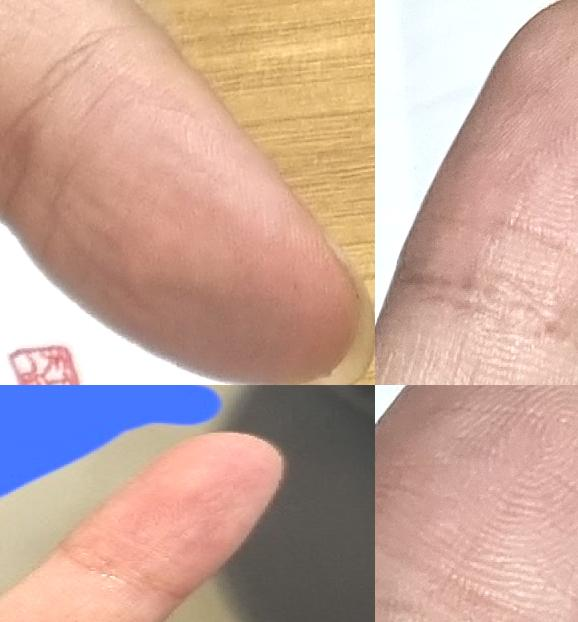Fingerprints: (2, 24, 360, 385), (375, 385, 578, 622), (70, 433, 283, 594)
